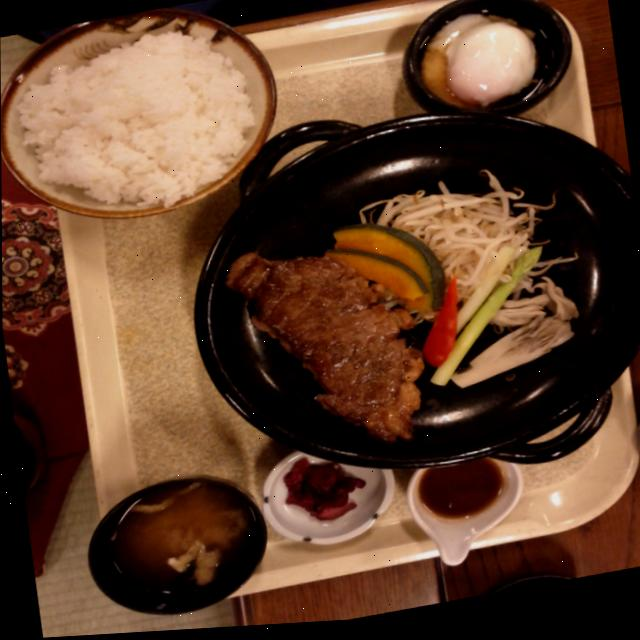汤锅炖物: (80, 465, 280, 631)
牛肉菜式: (221, 227, 431, 473)
米饭主食: (0, 0, 294, 241)
